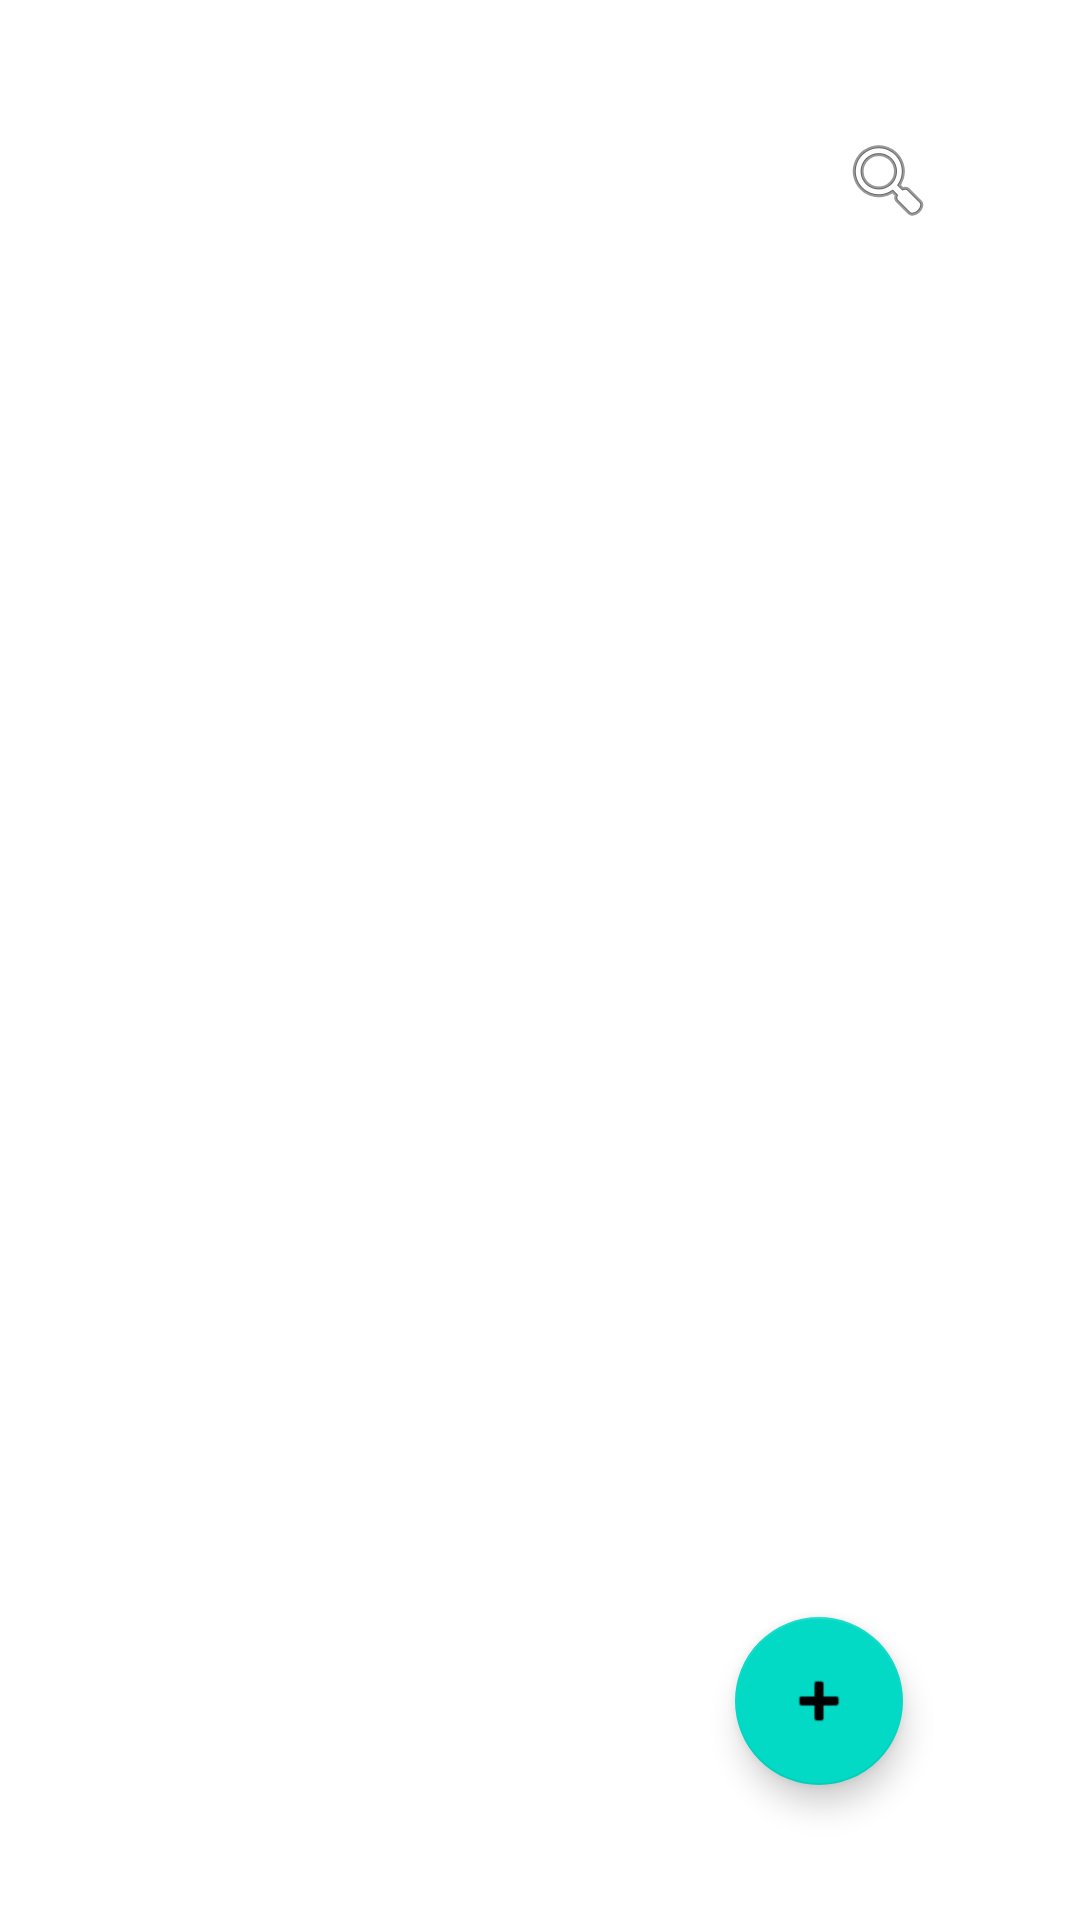

Icon click points for this 1080px×1920px phone screenshot, format point (x, y):
add: point (819, 1701)
search: point (888, 180)
